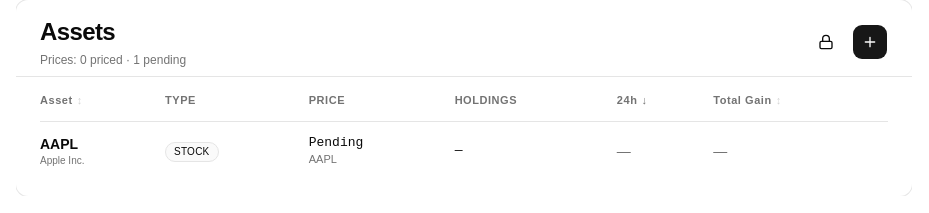
Test: AssetsPage › keeps populated assets constrained on mobile when edit mode is unlocked
The width and height of the screenshot is (929, 213).
Step 1. Click the button named "unlock edit mode" → click(826, 42), box left=808, top=24, right=844, bottom=60
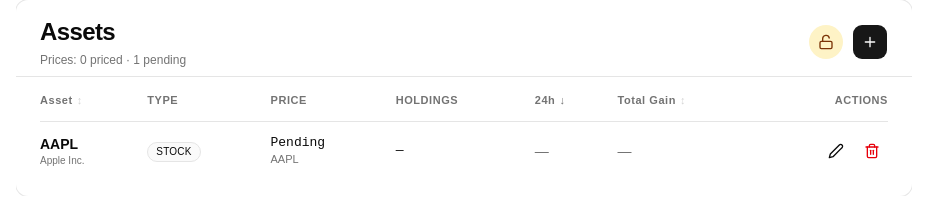
Expected: the column heading "Actions" is shown, left=767, top=93, right=888, bottom=121
